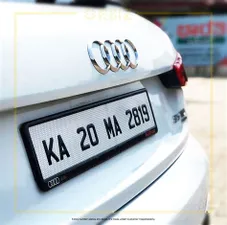number_plate: (17, 88, 185, 196)
